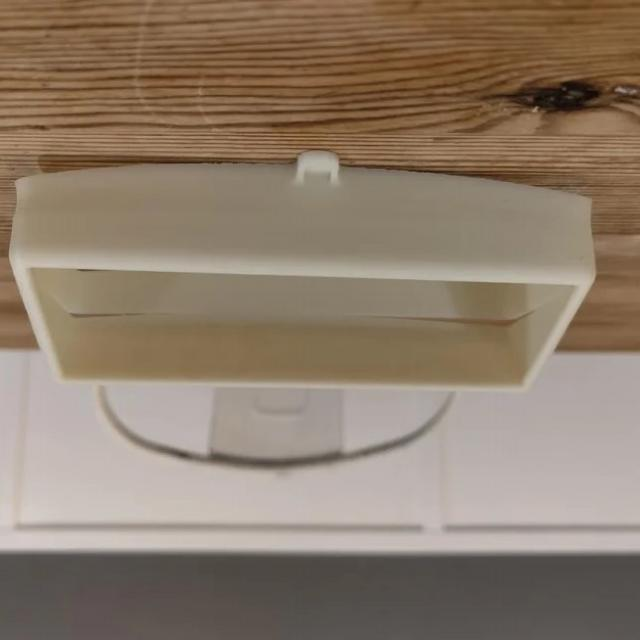Warping: (18, 158, 120, 192), (516, 175, 595, 209), (478, 312, 520, 336)
